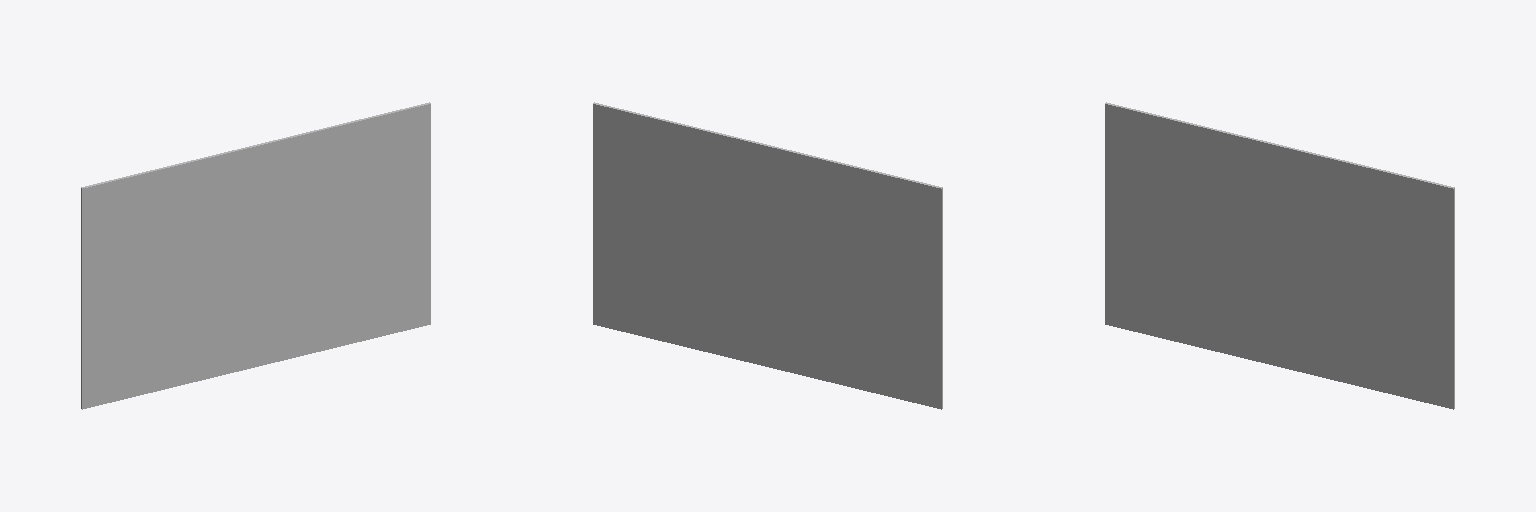
Rendered from start_platform002.obj.
3 views of the same model, side by side, from view 1: azimuth 30°, elevation 25°; view 2: azimuth 150°, elevation 25°; view 3: azimuth 330°, elevation 25° (orthographic).
Parts seen in each view (by area): view 1: start_platform002; view 2: start_platform002; view 3: start_platform002.
Boxes of the visible parts, box(x1,y1,x2,y2) form: start_platform002: box(81, 102, 430, 409); start_platform002: box(593, 102, 942, 409); start_platform002: box(1105, 102, 1454, 409).
Size of the model in its own units: 11.89 by 7.19 by 0.1.